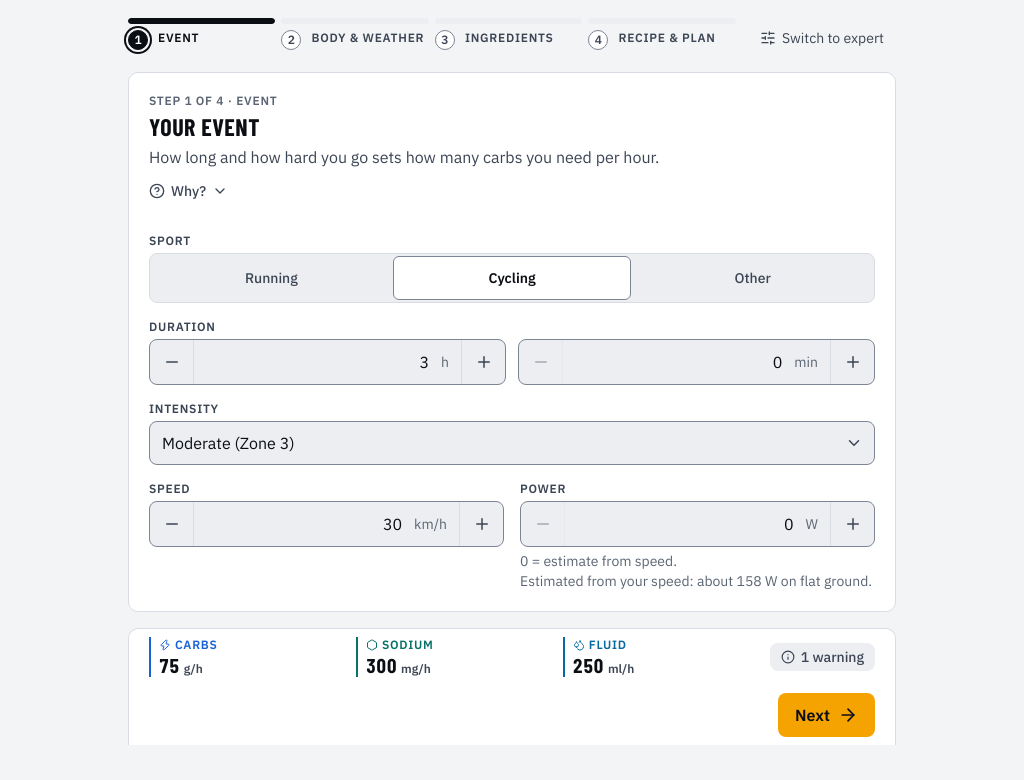
Guided step 1: the event › writes the event inputs, which the dock follows at once
Replace the text in the 1st number field named "Hours" with "1" at (318, 362), box x1=194 y1=340 x2=441 y2=384
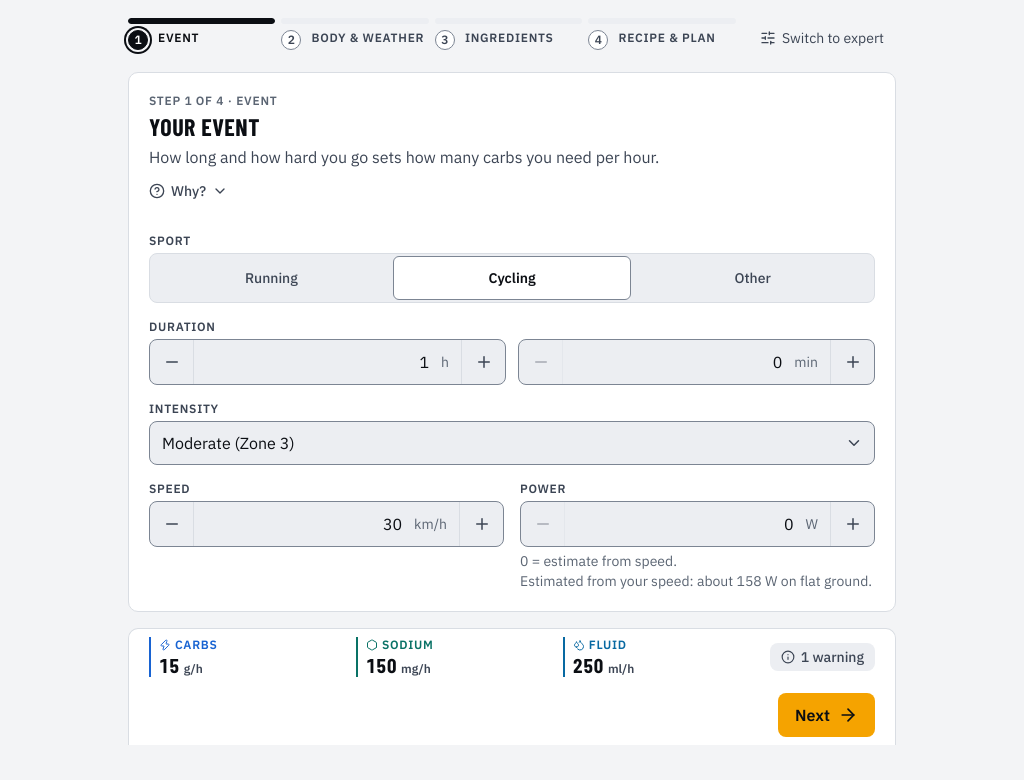
Expected: the text with test id "guided-dock-carbs-value" reads "15", x1=159 y1=653 x2=180 y2=677
Click the radio button labelled "Running" at (271, 278), box x1=152 y1=256 x2=391 y2=300
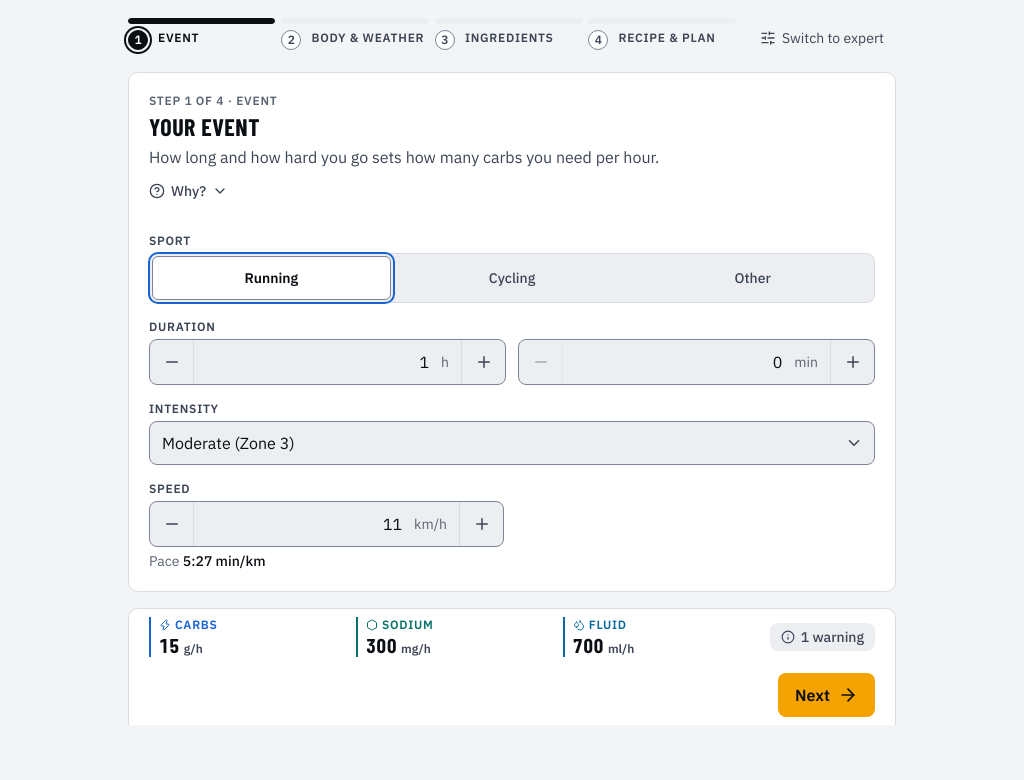
Expected: the label "Power" is gone
Click the radio button with aria-label "Other sport" at (753, 278), box x1=633 y1=256 x2=872 y2=300
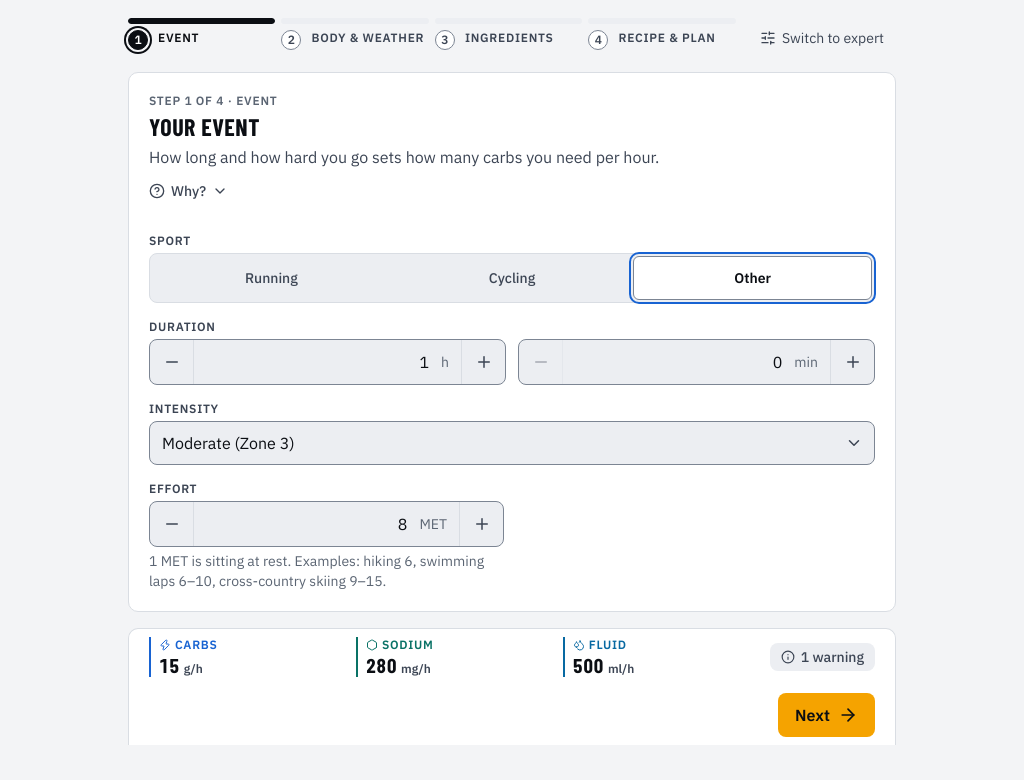
Expected: the number field labelled "Effort" is shown, x1=194 y1=502 x2=420 y2=546
